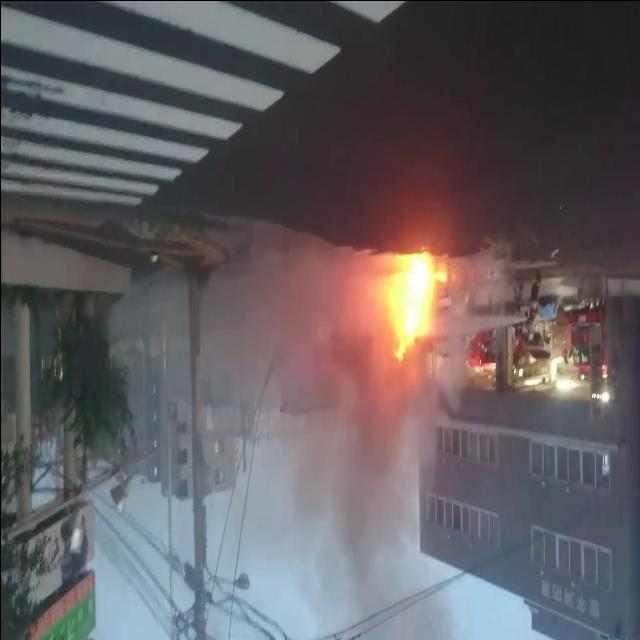Fire: (380, 248, 444, 359)
